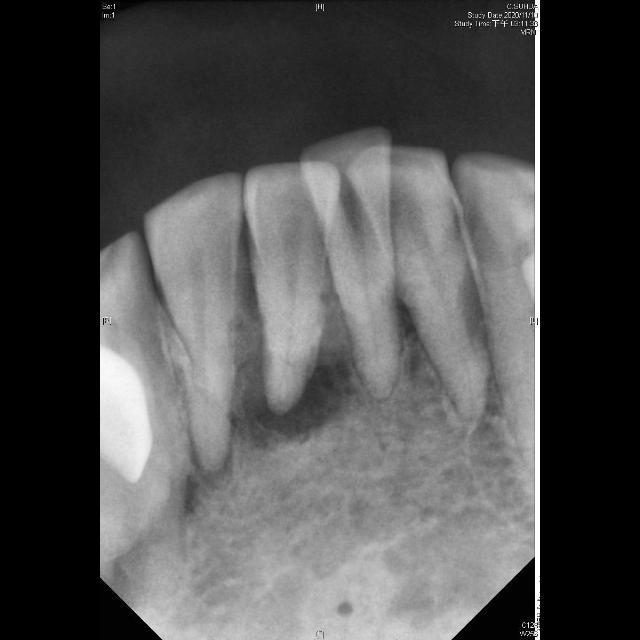teeth: (348, 148, 488, 420), (145, 173, 243, 470), (302, 131, 400, 397), (245, 164, 337, 412)
